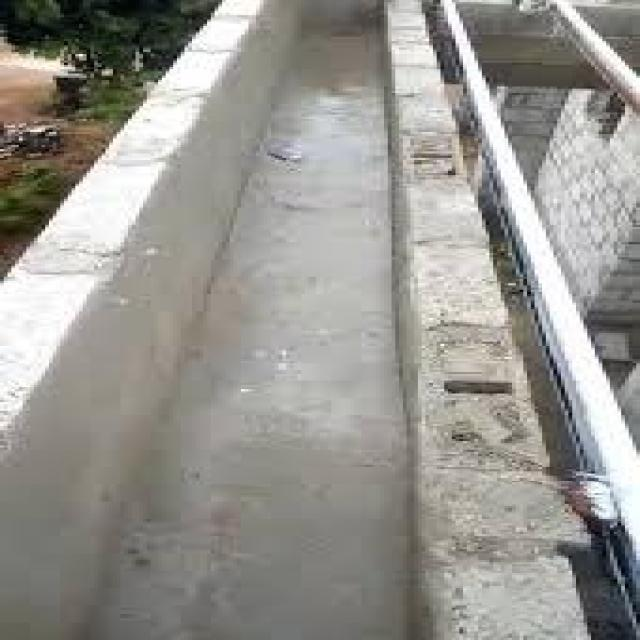curb: (1, 1, 304, 640), (372, 1, 596, 640)
